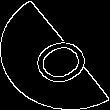O_NE: (16, 23, 94, 87)
